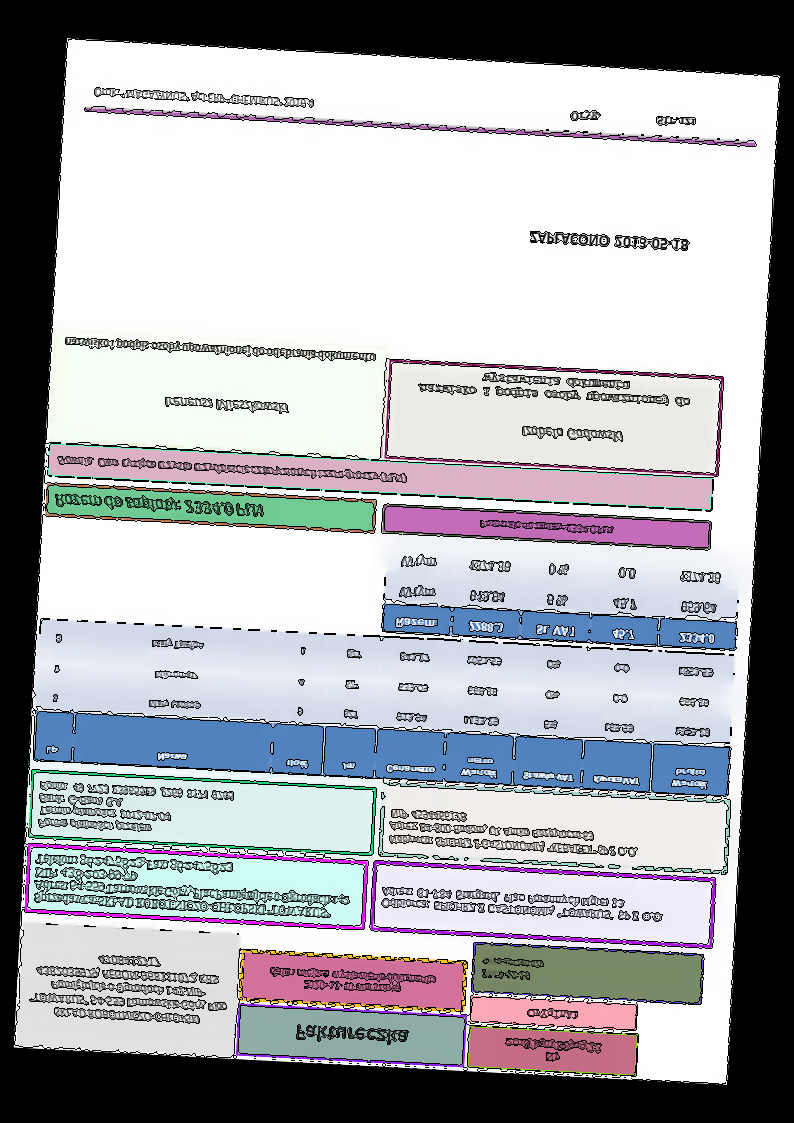Table: (31, 618, 737, 798), (380, 540, 742, 652)
TextBox: (31, 851, 355, 923), (26, 946, 234, 1029), (387, 806, 643, 860), (377, 883, 668, 927), (35, 778, 237, 841), (56, 452, 408, 487), (416, 367, 694, 411), (62, 334, 377, 368), (52, 489, 266, 523), (92, 82, 315, 112), (266, 964, 439, 998), (524, 228, 693, 256), (501, 1033, 604, 1067), (161, 392, 290, 419), (476, 517, 618, 539), (293, 1022, 410, 1048), (568, 108, 700, 131), (519, 421, 627, 448), (479, 952, 547, 983), (524, 1004, 580, 1023)
